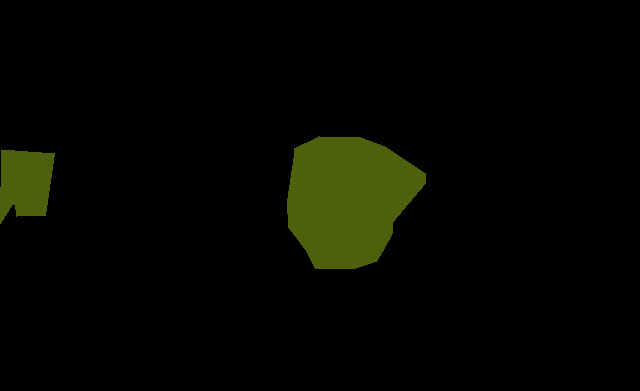Train: (287, 136, 426, 268), (0, 149, 54, 223)
